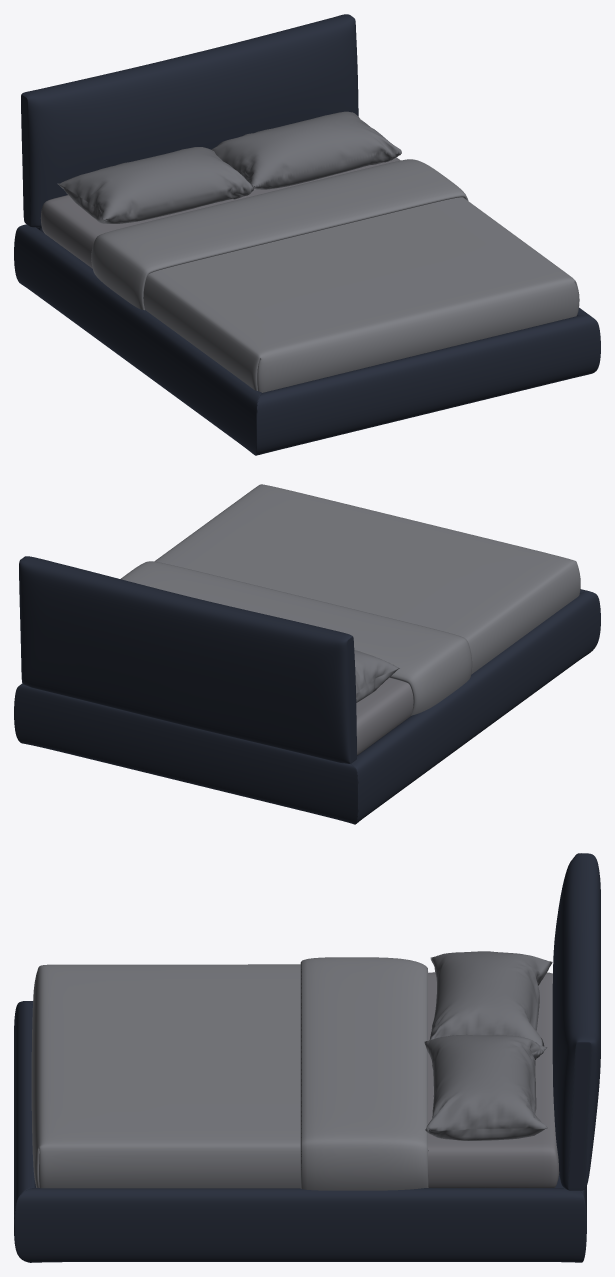
The model's file is new_bed.glb.
3 renders of one model, top to bottom at view 1: azimuth 30°, elevation 25°; view 2: azimuth 150°, elevation 25°; view 3: azimuth 270°, elevation 25°, orthographic. The views are drawn at different scales.
Parts seen in each view (by area): view 1: Object_2, Object_3, Object_5, Object_4; view 2: Object_2, Object_3, Object_4, Object_5; view 3: Object_3, Object_2, Object_5, Object_4.
Boxes of the visible parts, x1,y1,x2,y2 form: Object_2: (14,14,600,455); Object_3: (91,159,579,392); Object_5: (57,111,401,223); Object_4: (40,157,400,268); Object_2: (14,556,600,824); Object_3: (120,484,580,715); Object_4: (356,677,413,755); Object_5: (354,650,399,702); Object_3: (31,957,428,1190); Object_2: (14,853,600,1262); Object_5: (424,951,552,1140); Object_4: (428,972,559,1187).
Size of the model in its own units: 1.8 by 0.9385 by 2.25.
Materials: 4 (1 with a texture image).
